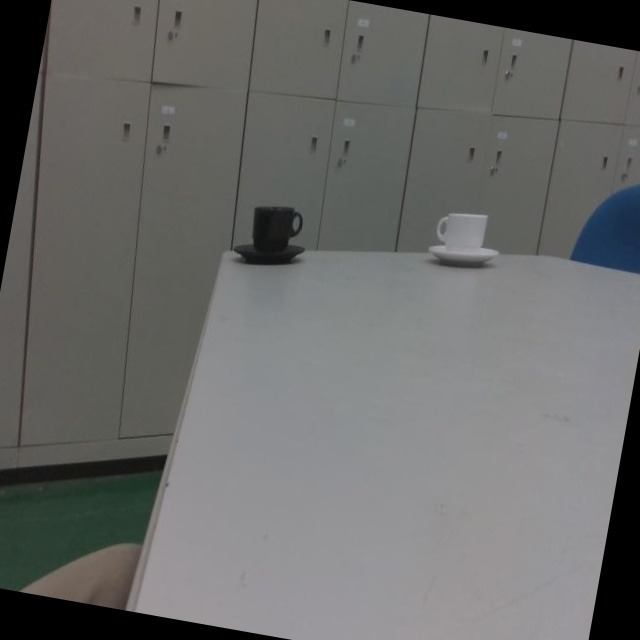black: (234, 199, 305, 268)
white: (426, 206, 497, 278)
